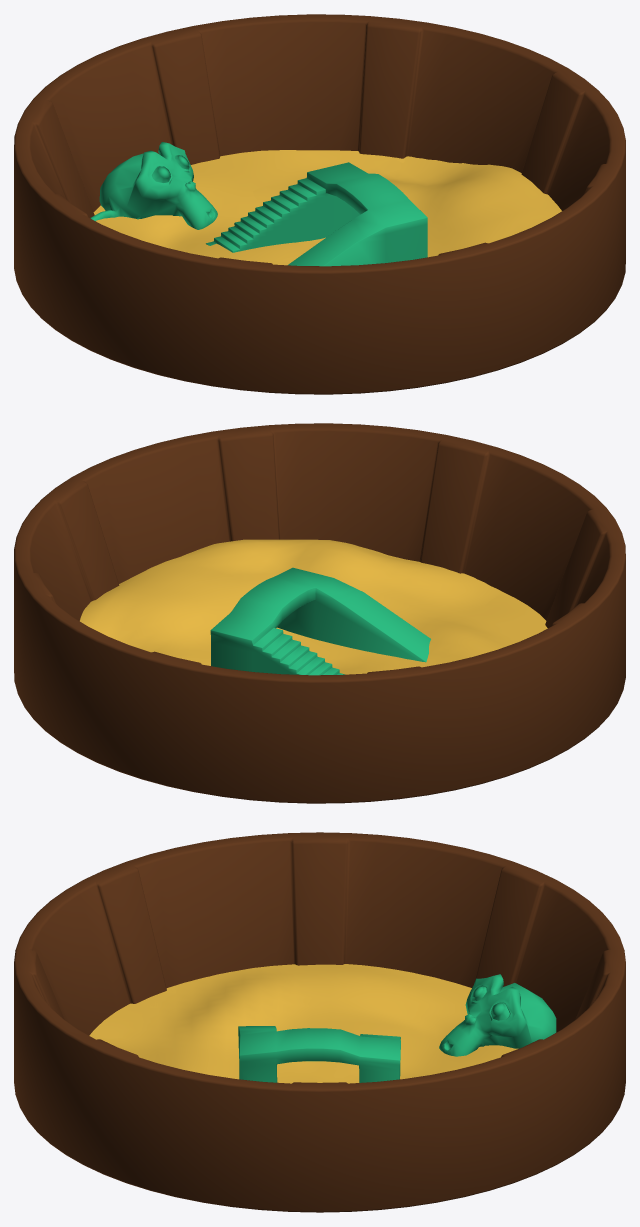
File: arena.glb
3 renders of one model, top to bottom at view 1: azimuth 30°, elevation 25°; view 2: azimuth 150°, elevation 25°; view 3: azimuth 270°, elevation 25°, orthographic.
Parts seen in each view (by area): view 1: arena, ground, bridge, suzanne; view 2: arena, ground, bridge; view 3: arena, ground, bridge, suzanne.
Part boxes in pixels (x1,y1,x2,y2): arena: [14, 14, 625, 394]; ground: [93, 150, 561, 265]; bridge: [206, 162, 427, 266]; suzanne: [90, 142, 217, 229]; arena: [14, 423, 625, 803]; ground: [80, 539, 547, 674]; bridge: [210, 567, 430, 675]; arena: [14, 832, 625, 1212]; ground: [89, 964, 518, 1083]; bridge: [238, 1026, 400, 1082]; suzanne: [439, 974, 556, 1056].
Size of the model in its own units: 18 by 4.66 by 18.
